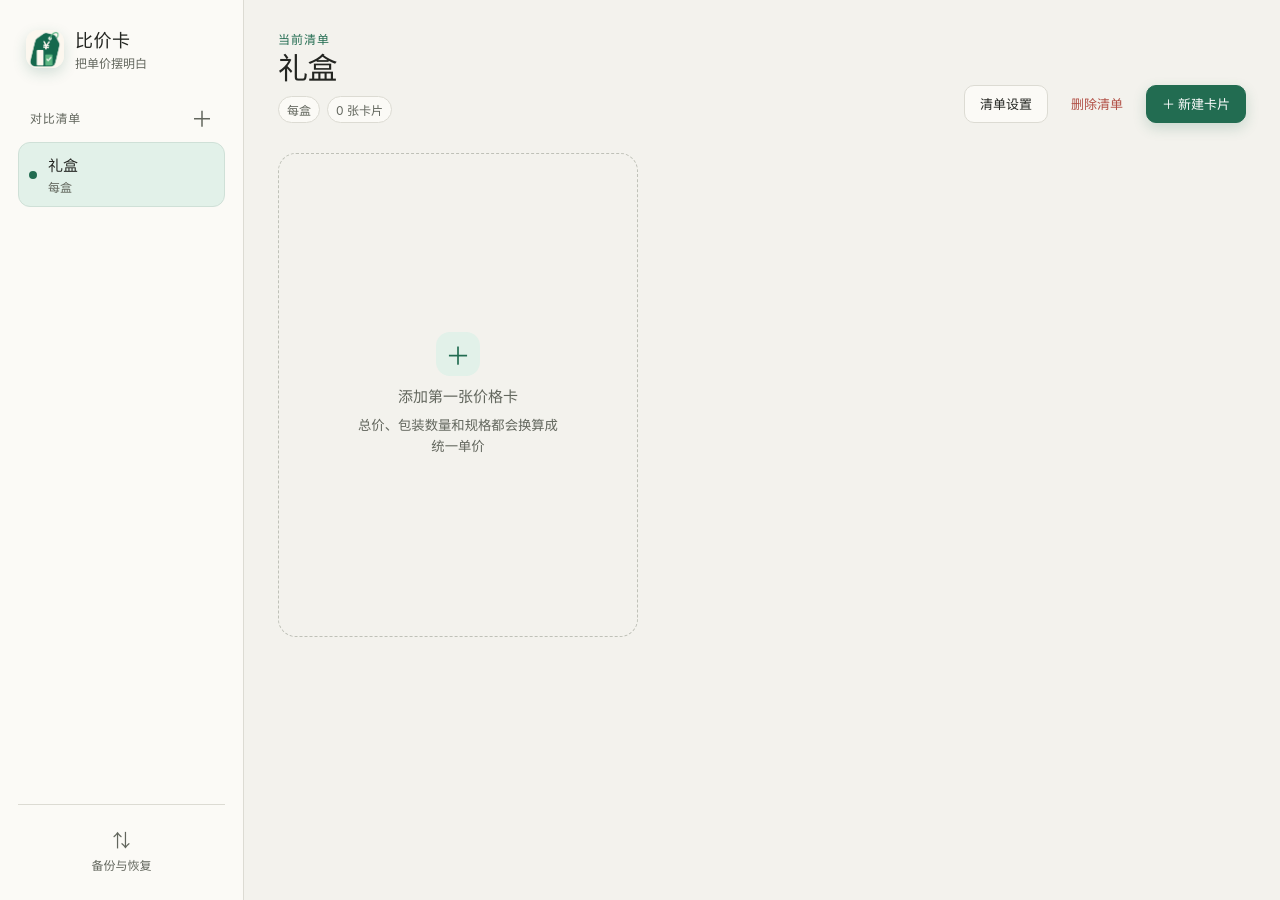
Test: App › 新建价格卡的规格提示和实时计算同步数量单位
Check: the heading "礼盒" is shown, box [278,50,337,86]
Click the button "＋ 添加第一张价格卡 总价、包装数量和规格都会换算成统一单价". click: (458, 395)
box: [278,153,638,637]
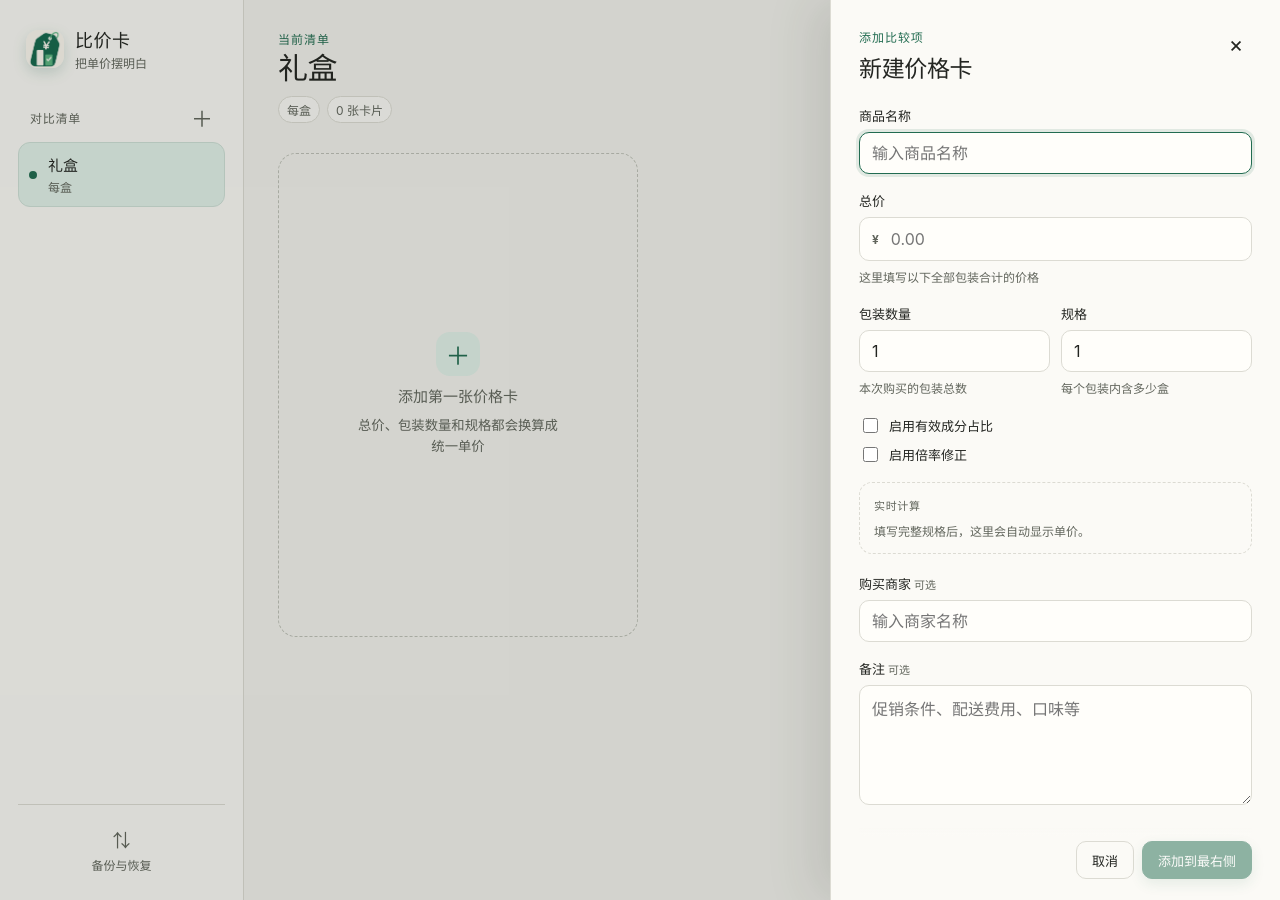
Check: the text "每个包装内含多少盒" is shown, box [1061,381,1169,396]
Type "12" into the number field with placeholder "0.00". click: (1065, 239)
box: [879,218,1251,260]
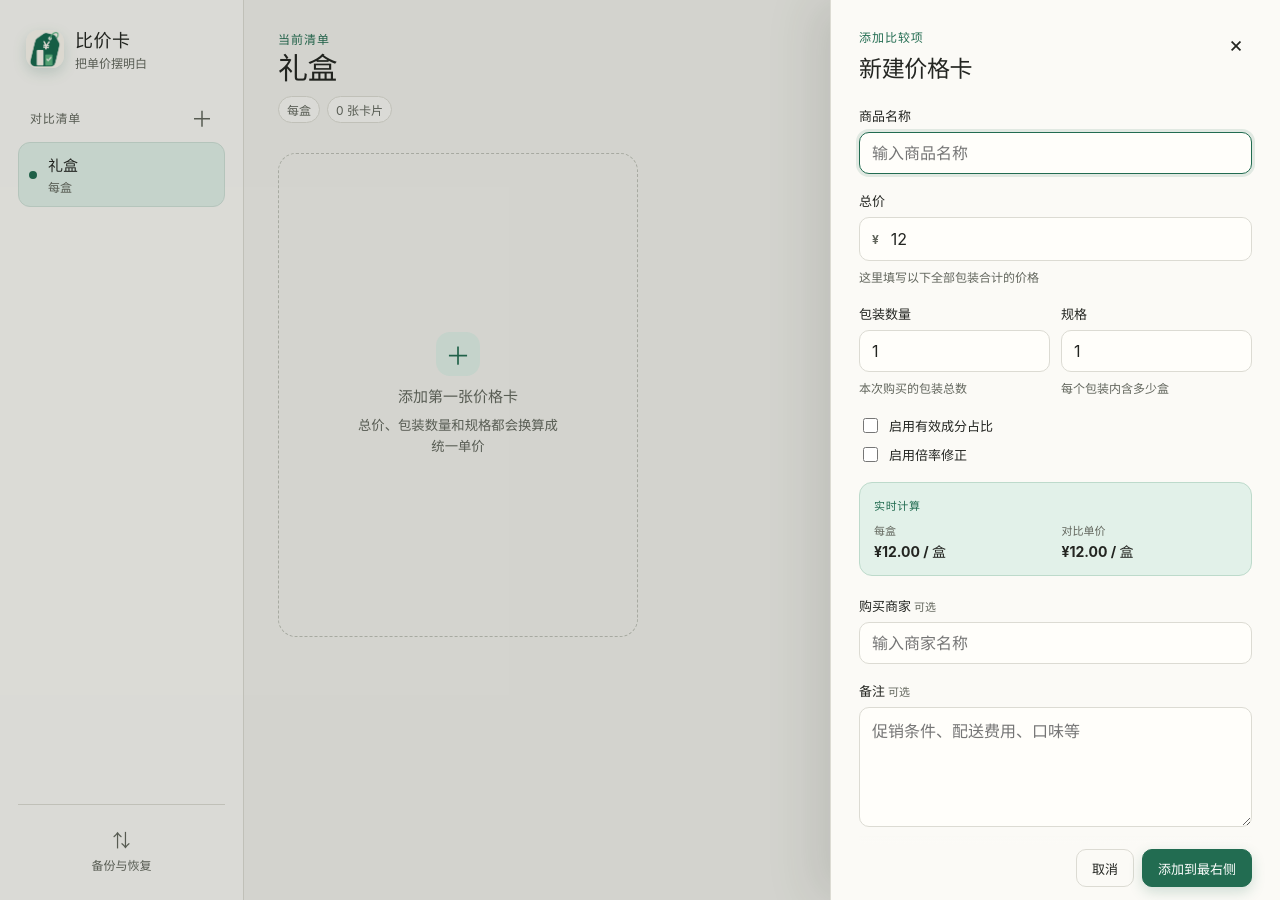
Check: the text "每盒" is shown, box [874,524,896,538]
